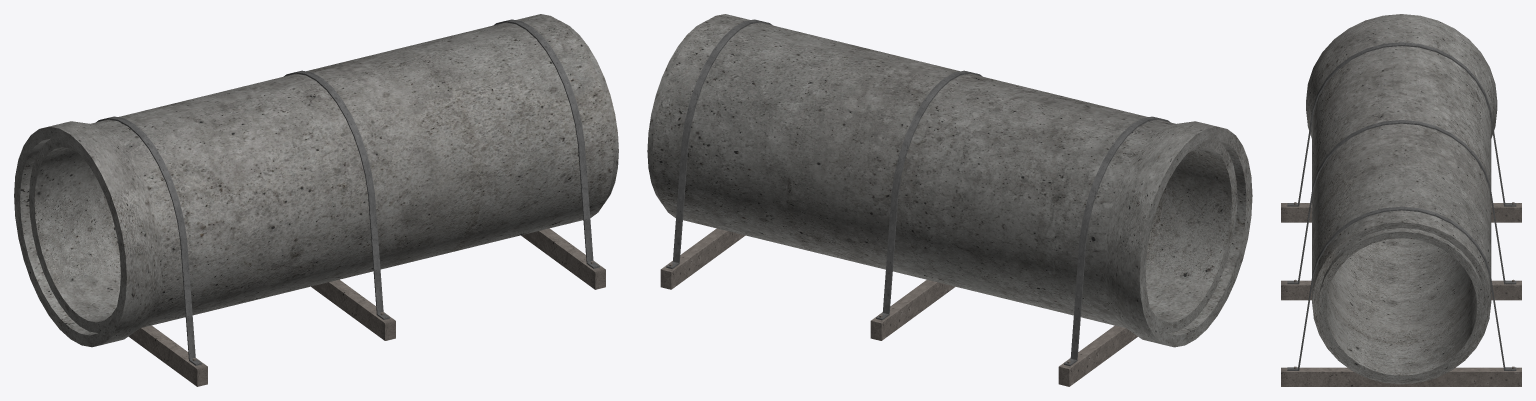
File: TubeLarge01.FBX
The picture shows the model from 3 angles, left to right: view 1: azimuth 30°, elevation 25°; view 2: azimuth 150°, elevation 25°; view 3: azimuth 270°, elevation 25°; orthographic projection. The views are drawn at different scales.
Parts seen in each view (by area): view 1: TubeLarge01; view 2: TubeLarge01; view 3: TubeLarge01.
Boxes of the visible parts, x1,y1,x2,y2 form: TubeLarge01: (14,14,618,386); TubeLarge01: (647,14,1252,386); TubeLarge01: (1281,14,1521,386).
Size of the model in its own units: 290 by 119 by 143.
